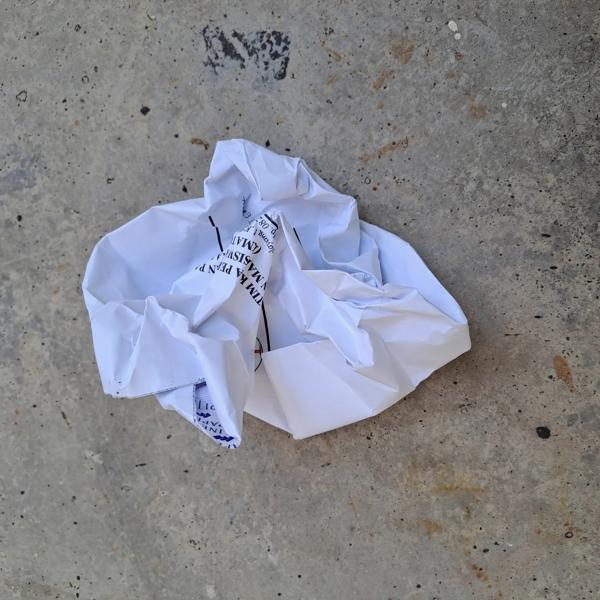Organik: (70, 113, 496, 467)
